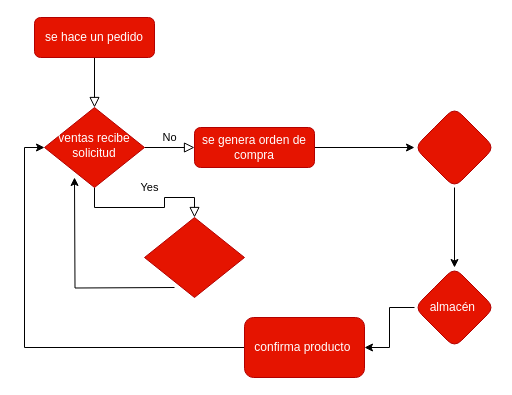
Image size: 512x395. Some labels were removed from this diagram. Here are the shapes that lost their labels. From the top down, the centre of each, then its label:
the point at 454,147: compras
the point at 194,257: se acepta
